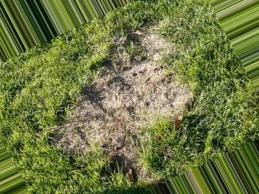patch: (119, 69, 161, 109), (96, 108, 123, 150), (71, 123, 92, 147), (140, 43, 161, 58), (172, 91, 187, 105), (136, 114, 155, 125), (102, 90, 114, 102)
